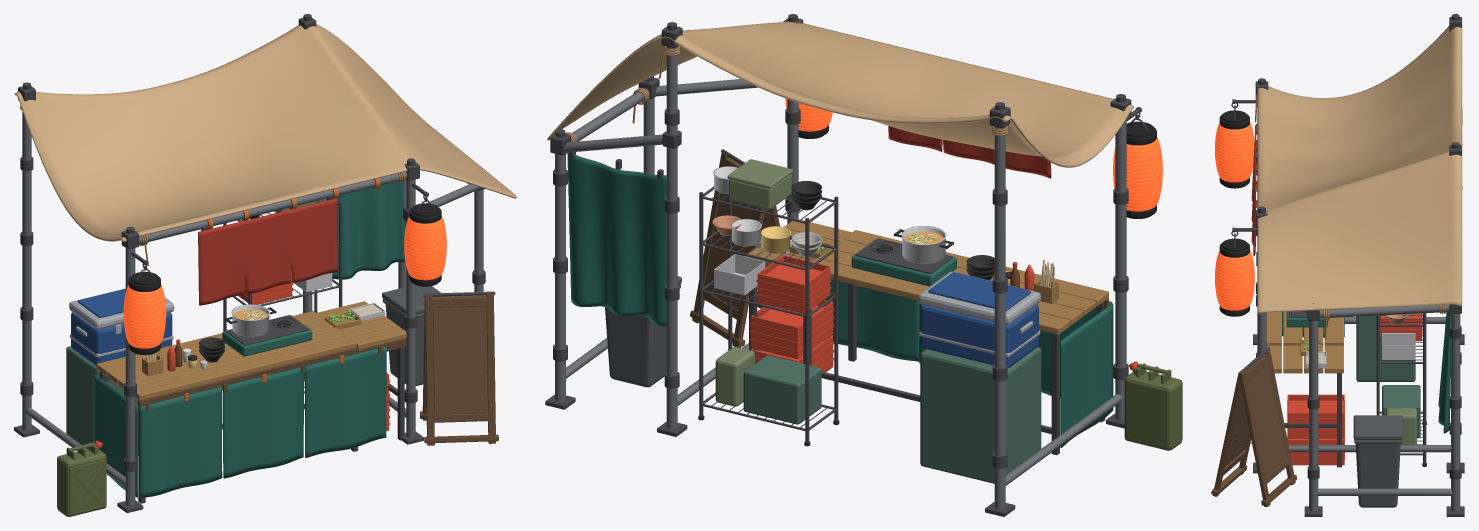
File: ramen.fbx
3 renders of one model, left to right at view 1: azimuth 30°, elevation 25°; view 2: azimuth 150°, elevation 25°; view 3: azimuth 270°, elevation 25°, orthographic. The views are drawn at different scales.
Visible parts, largest first — view 1: Tendone, Noren_Rosso, Gonna_Fronte_0, Gonna_Fronte_2, Gonna_Fronte_1, Cavalletto_Fronte_Pannello, Tenda_Verde_Laterale, Bancone_Asse_0, Gonna_Lato_Sx, Palo_BL, Cassa_Verde, Lanterna_Dx (+25 smaller); view 2: Tendone, Tenda_Verde_Laterale, Cassa_Verde, Gonna_Lato_Sx, Gonna_Fronte_2, Frigo_Corpo, Scaffale_Cassa_Bassa, Tanica_Corpo, Palo_BL, Bidone, Palo_BR, Palo_FL (+38 smaller); view 3: Tendone, Cavalletto_Retro_Pannello, Bidone, Cassa_Verde, Lanterna_Dx, Lanterna_Sx, Palo_ERF, Palo_ERB, Bidone_Coperchio, Cassetta_Rossa_Sotto_2, Traversa_Bassa_Ext, Tenda_Verde_Laterale (+27 smaller).
Boxes of the visible parts, x1=… form: Tendone: x1=15, y1=24, x2=516, y2=241; Noren_Rosso: x1=198, y1=198, x2=337, y2=305; Gonna_Fronte_0: x1=140, y1=386, x2=222, y2=497; Gonna_Fronte_2: x1=304, y1=346, x2=386, y2=457; Gonna_Fronte_1: x1=222, y1=367, x2=304, y2=478; Cavalletto_Fronte_Pannello: x1=433, y1=306, x2=487, y2=414; Tenda_Verde_Laterale: x1=332, y1=182, x2=405, y2=279; Bancone_Asse_0: x1=135, y1=335, x2=356, y2=400; Gonna_Lato_Sx: x1=93, y1=374, x2=137, y2=497; Palo_BL: x1=22, y1=111, x2=31, y2=430; Cassa_Verde: x1=66, y1=346, x2=138, y2=455; Lanterna_Dx: x1=404, y1=216, x2=446, y2=280; Tendone: x1=547, y1=22, x2=1133, y2=167; Tenda_Verde_Laterale: x1=567, y1=152, x2=666, y2=326; Cassa_Verde: x1=920, y1=347, x2=1041, y2=483; Gonna_Lato_Sx: x1=1060, y1=303, x2=1113, y2=447; Gonna_Fronte_2: x1=825, y1=279, x2=919, y2=361; Frigo_Corpo: x1=920, y1=304, x2=1038, y2=367; Scaffale_Cassa_Bassa: x1=743, y1=355, x2=821, y2=424; Tanica_Corpo: x1=1124, y1=371, x2=1182, y2=450; Palo_BL: x1=994, y1=126, x2=1005, y2=508; Bidone: x1=605, y1=307, x2=666, y2=387; Palo_BR: x1=666, y1=46, x2=677, y2=428; Palo_FL: x1=1115, y1=119, x2=1126, y2=420; Tendone: x1=1257, y1=21, x2=1462, y2=313; Cavalletto_Retro_Pannello: x1=1247, y1=363, x2=1286, y2=476; Bidone: x1=1355, y1=443, x2=1400, y2=507; Cassa_Verde: x1=1356, y1=315, x2=1415, y2=381; Lanterna_Dx: x1=1215, y1=251, x2=1254, y2=310; Lanterna_Sx: x1=1215, y1=122, x2=1254, y2=182; Palo_ERF: x1=1309, y1=320, x2=1318, y2=511; Palo_ERB: x1=1451, y1=313, x2=1460, y2=511; Bidone_Coperchio: x1=1353, y1=415, x2=1402, y2=440; Cassetta_Rossa_Sotto_2: x1=1287, y1=394, x2=1344, y2=438; Traversa_Bassa_Ext: x1=1316, y1=488, x2=1452, y2=495; Tenda_Verde_Laterale: x1=1438, y1=312, x2=1450, y2=433.
Size of the model in its own units: 371 by 279 by 196.
